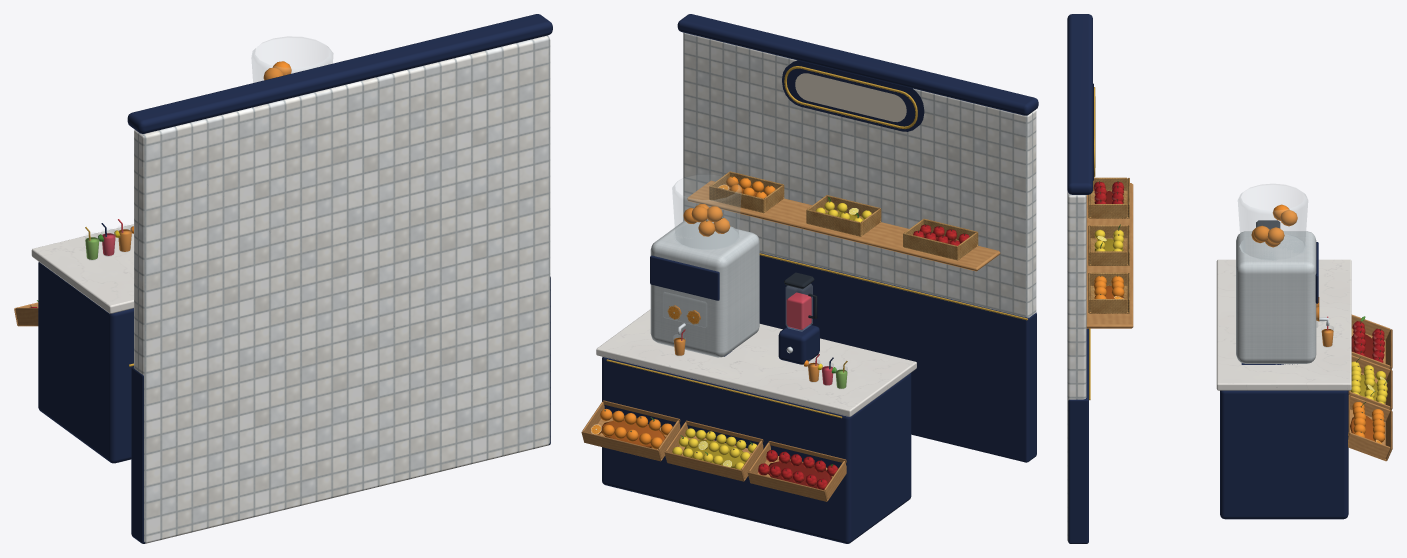
File: sector-sucos_T1.fbx
The picture shows the model from 3 angles, left to right: view 1: azimuth 30°, elevation 25°; view 2: azimuth 150°, elevation 25°; view 3: azimuth 270°, elevation 25°; orthographic projection. The views are drawn at different scales.
Visible parts, largest first — view 1: Body; view 2: Body; view 3: Body.
Boxes of the visible parts, x1,y1,x2,y2 form: Body: (14, 14, 552, 543); Body: (581, 14, 1038, 543); Body: (1067, 14, 1392, 543).
Bounding box in the file's own units: 2.54 × 2.48 × 2.02.
